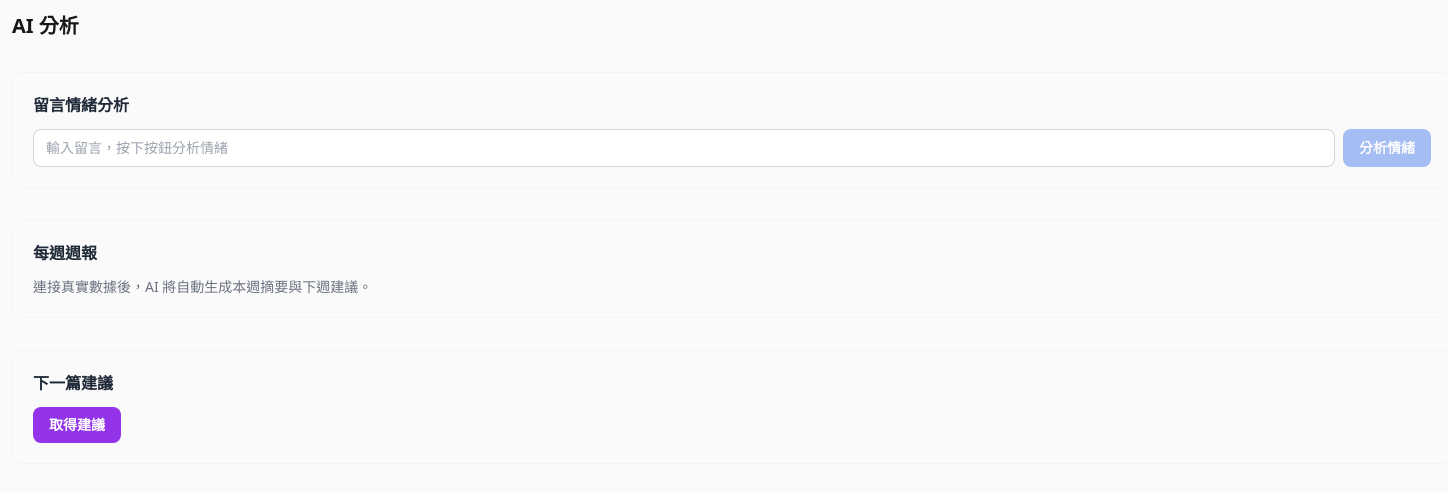
Test case: AiAnalysisPage — AI 分析 › calls sentiment API and shows result
Type "好棒！" into the field with placeholder "輸入留言，按下按鈕分析情緒" at x=684, y=148, box [33, 129, 1335, 167]
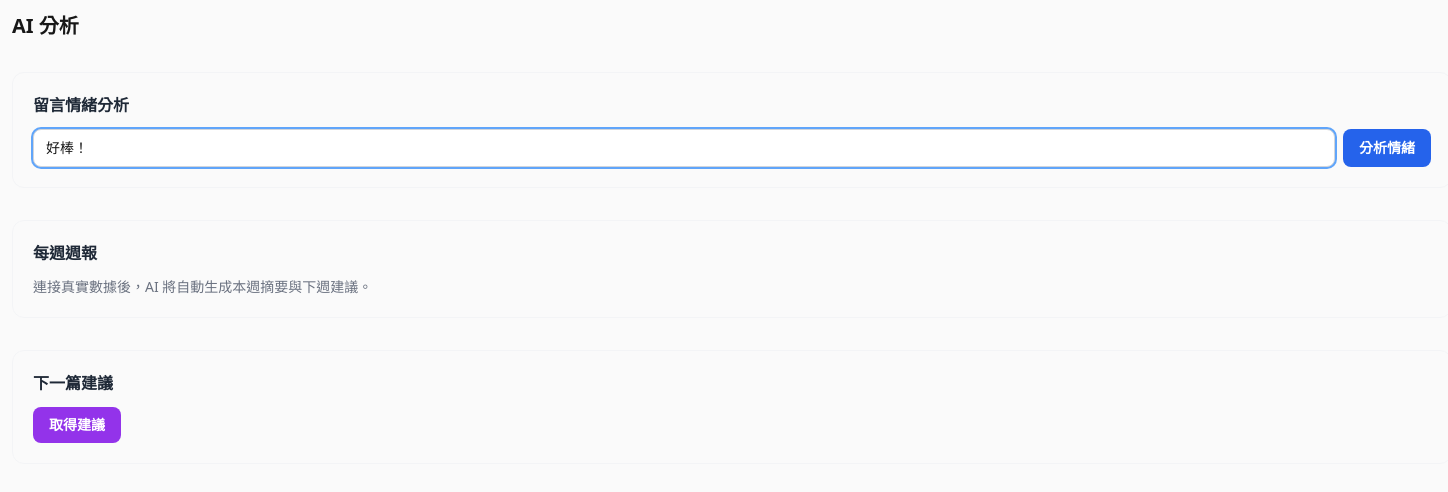
Click the button "分析情緒" at x=1387, y=148, box [1343, 129, 1431, 167]
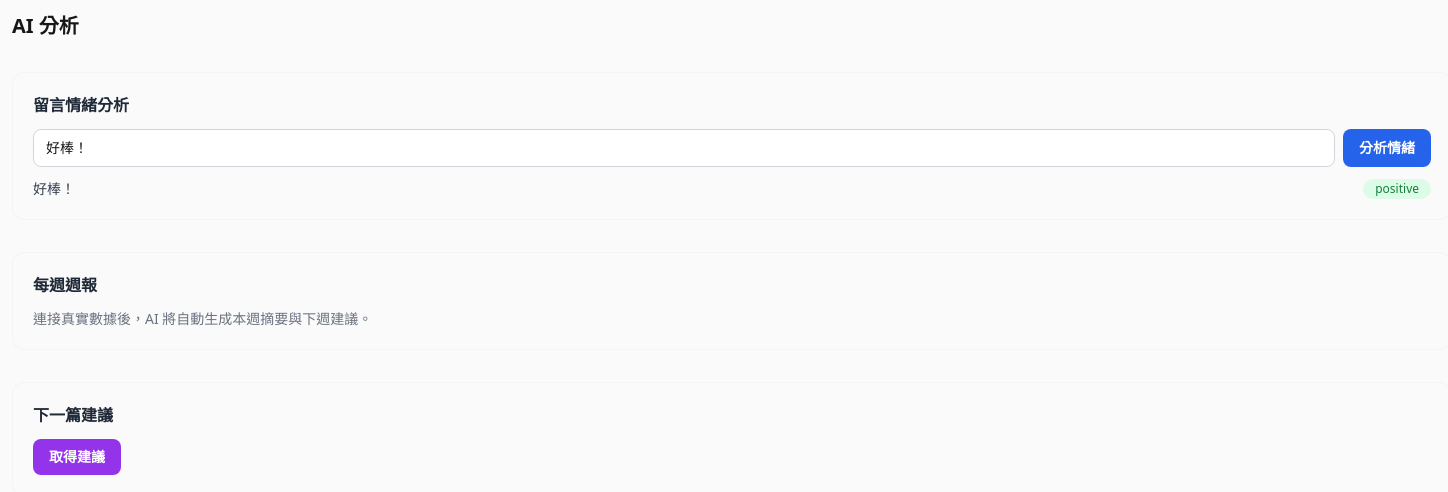
Now the text "positive" is shown, box [1363, 179, 1431, 199]
